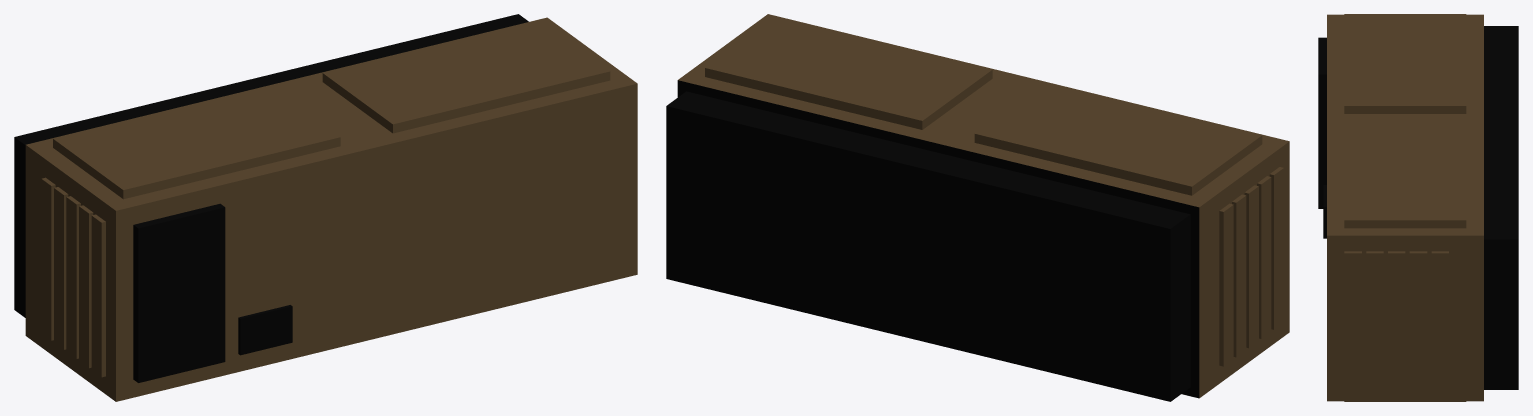
File: generator.dae
3 views of the same model, side by side, from view 1: azimuth 30°, elevation 25°; view 2: azimuth 150°, elevation 25°; view 3: azimuth 270°, elevation 25° (orthographic). The views are drawn at different scales.
Visible parts, largest first — view 1: coords_ME_ID3_MA_material_27, coords_ME_ID37_MA_material_27, coords_ME_ID55_MA_material_27, coords_ME_ID31_MA_material_9, coords_ME_ID109_MA_material_9, coords_ME_ID43_MA_material_27, coords_ME_ID17_MA_material_9, coords_ME_ID67_MA_material_27, coords_ME_ID79_MA_material_27, coords_ME_ID73_MA_material_27, coords_ME_ID11_MA_material_27; view 2: coords_ME_ID109_MA_material_9, coords_ME_ID3_MA_material_27, coords_ME_ID55_MA_material_27, coords_ME_ID37_MA_material_27, coords_ME_ID115_MA_material_9, coords_ME_ID67_MA_material_27, coords_ME_ID11_MA_material_27, coords_ME_ID43_MA_material_27, coords_ME_ID79_MA_material_27, coords_ME_ID73_MA_material_27; view 3: coords_ME_ID3_MA_material_27, coords_ME_ID109_MA_material_9, coords_ME_ID37_MA_material_27, coords_ME_ID55_MA_material_27, coords_ME_ID103_MA_material_27, coords_ME_ID85_MA_material_27, coords_ME_ID61_MA_material_27, coords_ME_ID49_MA_material_27, coords_ME_ID25_MA_material_27, coords_ME_ID31_MA_material_9, coords_ME_ID17_MA_material_9.
Part boxes in pixels (left/top/right/bottom): coords_ME_ID3_MA_material_27: left=25, top=17, right=637, bottom=401; coords_ME_ID37_MA_material_27: left=322, top=20, right=610, bottom=133; coords_ME_ID55_MA_material_27: left=53, top=85, right=340, bottom=199; coords_ME_ID31_MA_material_9: left=133, top=203, right=225, bottom=382; coords_ME_ID109_MA_material_9: left=14, top=14, right=528, bottom=317; coords_ME_ID43_MA_material_27: left=91, top=214, right=105, bottom=377; coords_ME_ID17_MA_material_9: left=238, top=305, right=292, bottom=355; coords_ME_ID67_MA_material_27: left=41, top=177, right=55, bottom=340; coords_ME_ID79_MA_material_27: left=66, top=196, right=80, bottom=358; coords_ME_ID73_MA_material_27: left=79, top=205, right=93, bottom=368; coords_ME_ID11_MA_material_27: left=54, top=187, right=68, bottom=349; coords_ME_ID109_MA_material_9: left=666, top=91, right=1190, bottom=401; coords_ME_ID3_MA_material_27: left=678, top=14, right=1289, bottom=398; coords_ME_ID55_MA_material_27: left=974, top=82, right=1262, bottom=195; coords_ME_ID37_MA_material_27: left=705, top=16, right=992, bottom=129; coords_ME_ID115_MA_material_9: left=677, top=80, right=1199, bottom=398; coords_ME_ID67_MA_material_27: left=1219, top=203, right=1233, bottom=366; coords_ME_ID11_MA_material_27: left=1232, top=194, right=1246, bottom=357; coords_ME_ID43_MA_material_27: left=1269, top=167, right=1283, bottom=329; coords_ME_ID79_MA_material_27: left=1244, top=185, right=1258, bottom=348; coords_ME_ID73_MA_material_27: left=1257, top=176, right=1271, bottom=338; coords_ME_ID3_MA_material_27: left=1327, top=14, right=1483, bottom=401; coords_ME_ID109_MA_material_9: left=1484, top=26, right=1518, bottom=389; coords_ME_ID37_MA_material_27: left=1344, top=128, right=1466, bottom=228; coords_ME_ID55_MA_material_27: left=1344, top=14, right=1466, bottom=113; coords_ME_ID103_MA_material_27: left=1409, top=251, right=1427, bottom=387; coords_ME_ID85_MA_material_27: left=1344, top=251, right=1361, bottom=387; coords_ME_ID61_MA_material_27: left=1366, top=251, right=1383, bottom=387; coords_ME_ID49_MA_material_27: left=1388, top=251, right=1405, bottom=387; coords_ME_ID25_MA_material_27: left=1431, top=251, right=1448, bottom=387; coords_ME_ID31_MA_material_9: left=1318, top=37, right=1326, bottom=208; coords_ME_ID17_MA_material_9: left=1323, top=185, right=1326, bottom=238.
Bounding box in the file's own units: 180 × 67.91 × 67.91.
